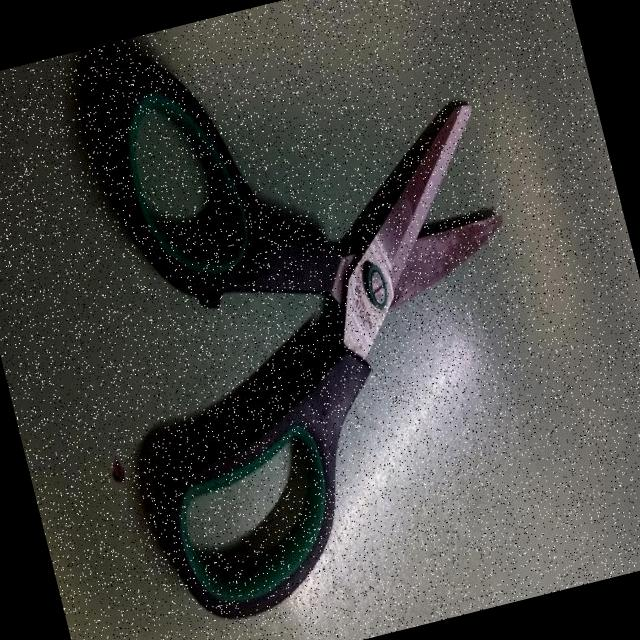scissors: (39, 0, 584, 640)
